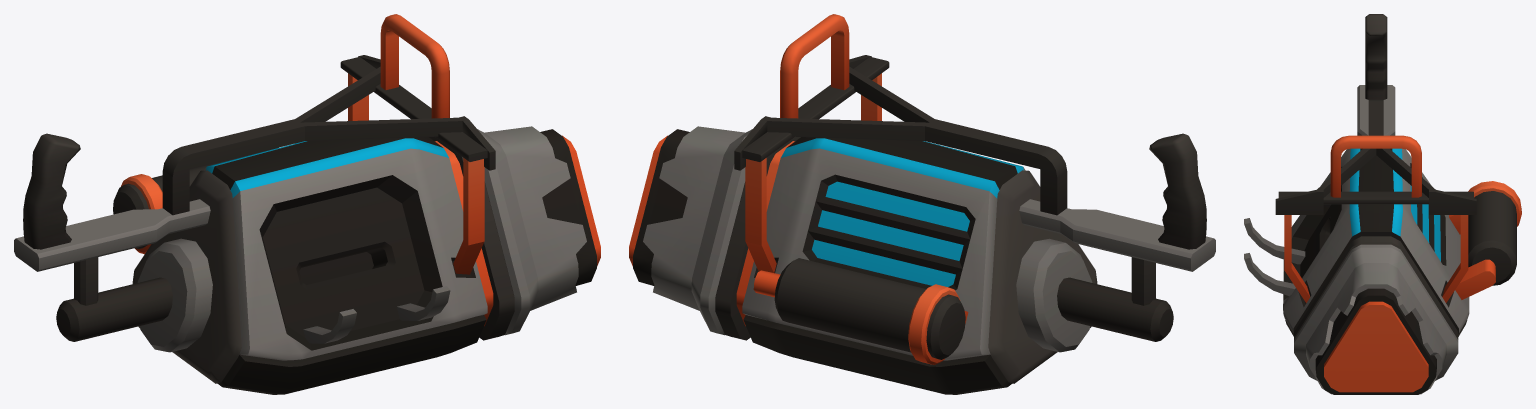
3 renders of one model, left to right at view 1: azimuth 30°, elevation 25°; view 2: azimuth 150°, elevation 25°; view 3: azimuth 270°, elevation 25°, orthographic. The views are drawn at different scales.
Parts seen in each view (by area): view 1: MG5_Base; view 2: MG5_Base; view 3: MG5_Base.
Boxes of the visible parts, bbox=[...] form: MG5_Base: bbox=[14, 14, 600, 394]; MG5_Base: bbox=[629, 14, 1215, 394]; MG5_Base: bbox=[1244, 14, 1521, 394].
Size of the model in its own units: 77.98 by 40.13 by 45.47.
